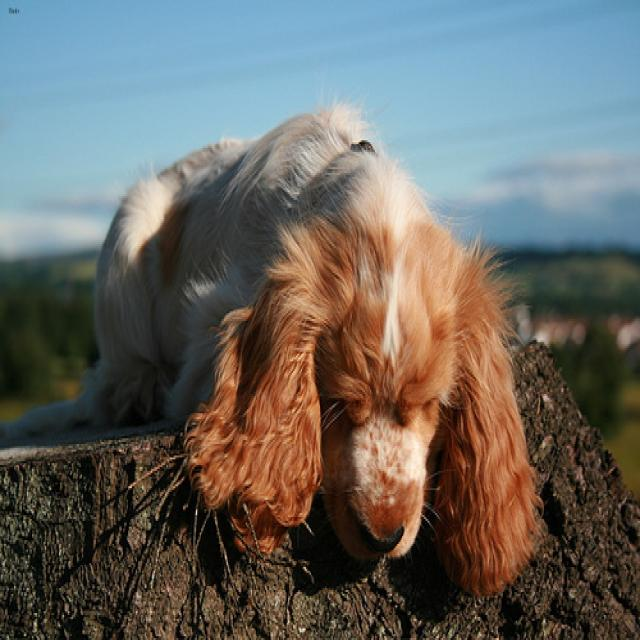dog-english_cocker_spaniel: (1, 104, 553, 615)
